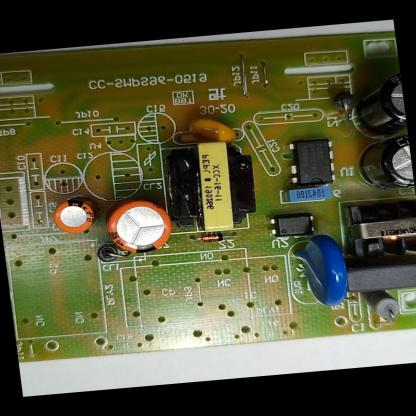Cap1: (103, 199, 176, 254)
Cap2: (49, 198, 97, 236)
Cap3: (354, 136, 414, 193)
Cap4: (349, 70, 406, 131)
MOSFET: (284, 137, 340, 186)
Mov: (290, 231, 351, 310)
Resistor: (360, 288, 401, 322)
Transformer: (162, 137, 262, 236), (342, 194, 416, 264)
